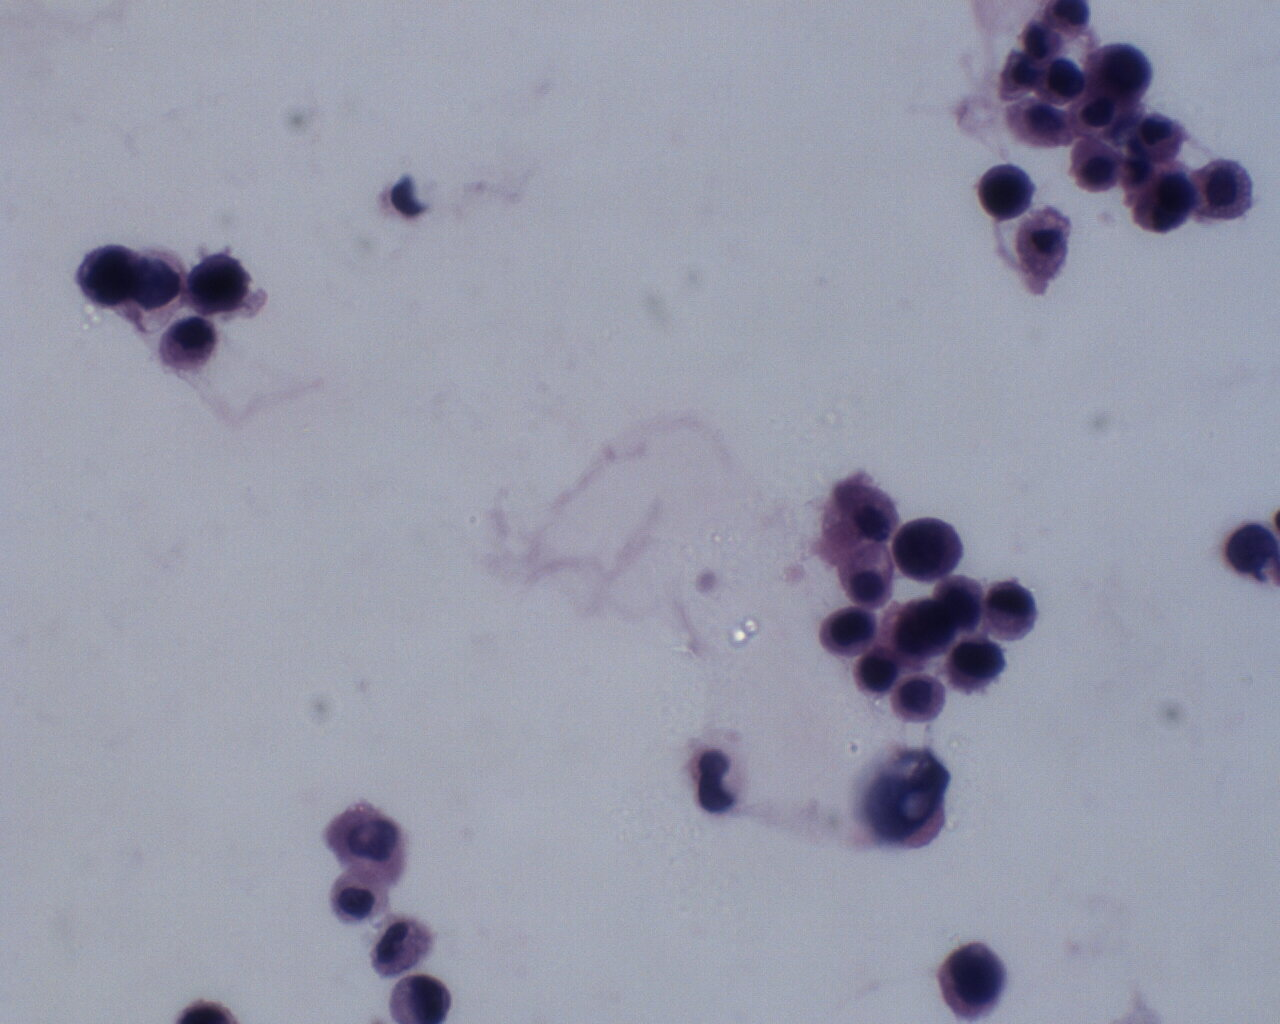ab: (935, 941, 1007, 1022), (1083, 37, 1157, 112), (893, 515, 965, 584), (72, 243, 145, 310), (183, 251, 253, 319), (1130, 167, 1196, 237), (383, 970, 457, 1024), (946, 636, 1005, 700), (978, 160, 1034, 222), (823, 603, 881, 659), (854, 645, 899, 698)
meso: (328, 864, 397, 928), (1072, 137, 1127, 195)
